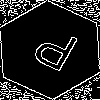P: (25, 25, 81, 81)
